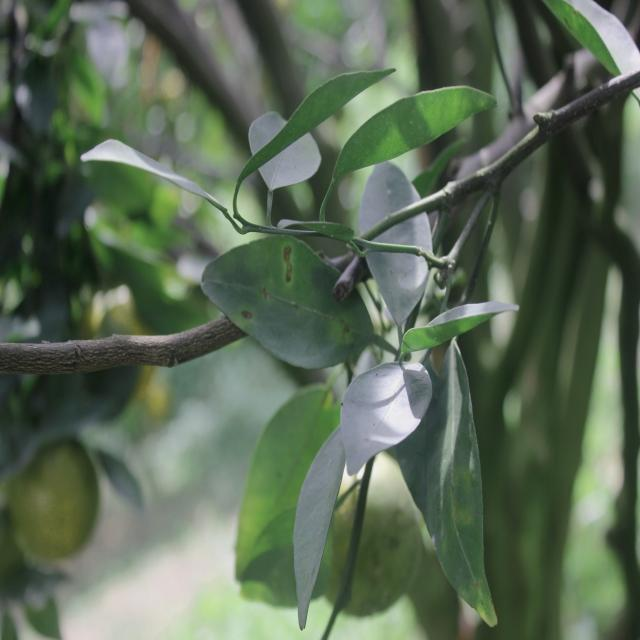canker: (231, 246, 355, 356)
